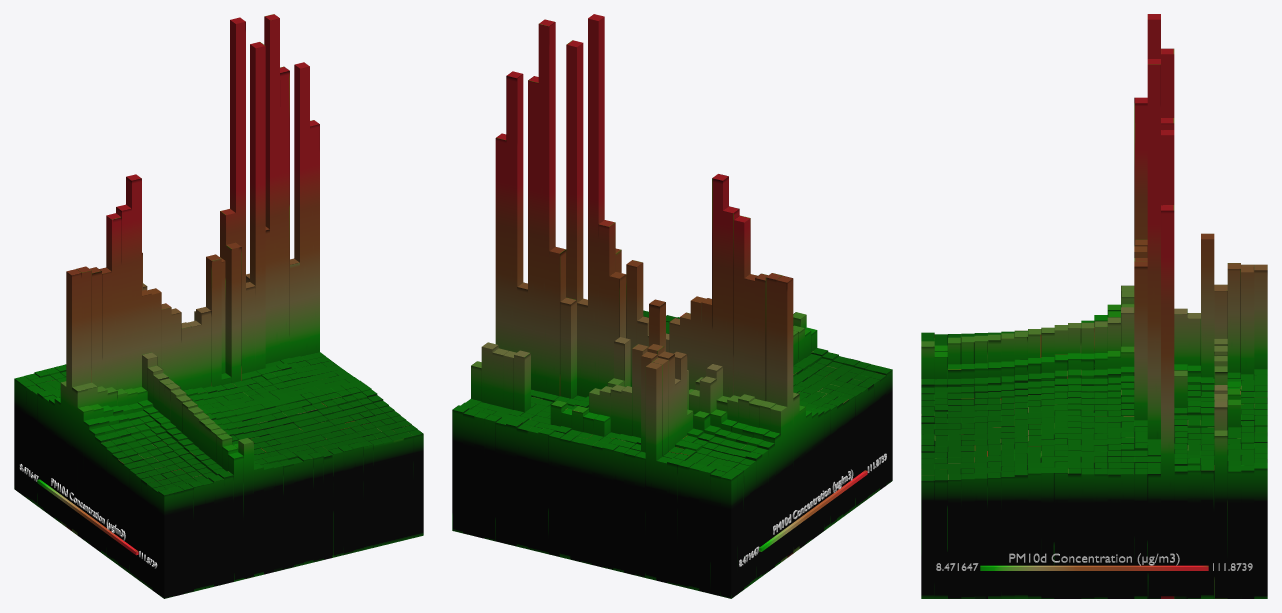
3 renders of one model, left to right at view 1: azimuth 30°, elevation 25°; view 2: azimuth 150°, elevation 25°; view 3: azimuth 270°, elevation 25°, orthographic. The views are drawn at different scales.
Visible parts, largest first — view 1: Cube.253, Cube.002; view 2: Cube.253, Cube.002, Text.001; view 3: Cube.253, Cube.001, Text.003.
Boxes of the visible parts, <box> form: Cube.253: <box>14,14,423,598</box>; Cube.002: <box>37,479,138,555</box>; Cube.253: <box>452,14,892,598</box>; Cube.002: <box>759,470,867,551</box>; Text.001: <box>773,469,853,534</box>; Cube.253: <box>921,14,1267,598</box>; Cube.001: <box>980,565,1208,570</box>; Text.003: <box>1009,553,1179,565</box>.
Bounding box in the file's own units: 51.18 × 85.46 × 50.22.
Materials: 3 (2 with a texture image).
